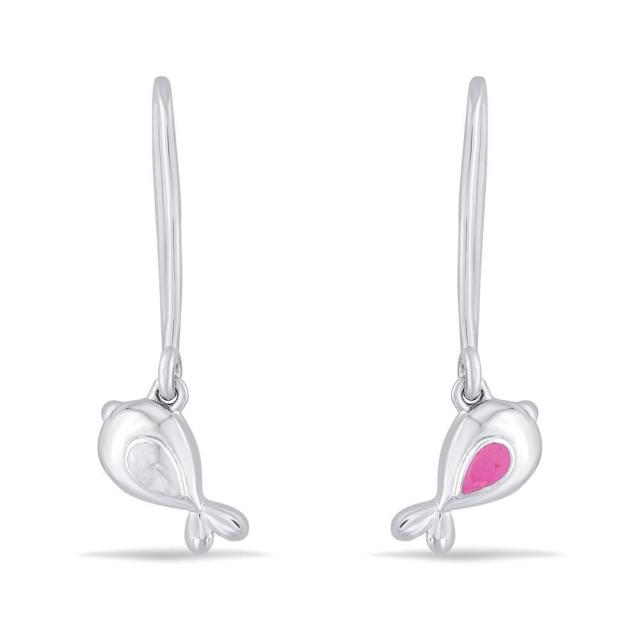missing gem: (127, 442, 181, 499)
